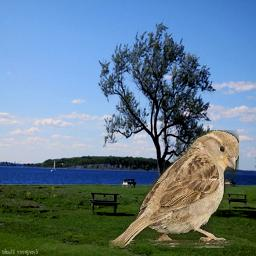Sparrow: (109, 130, 239, 248)
